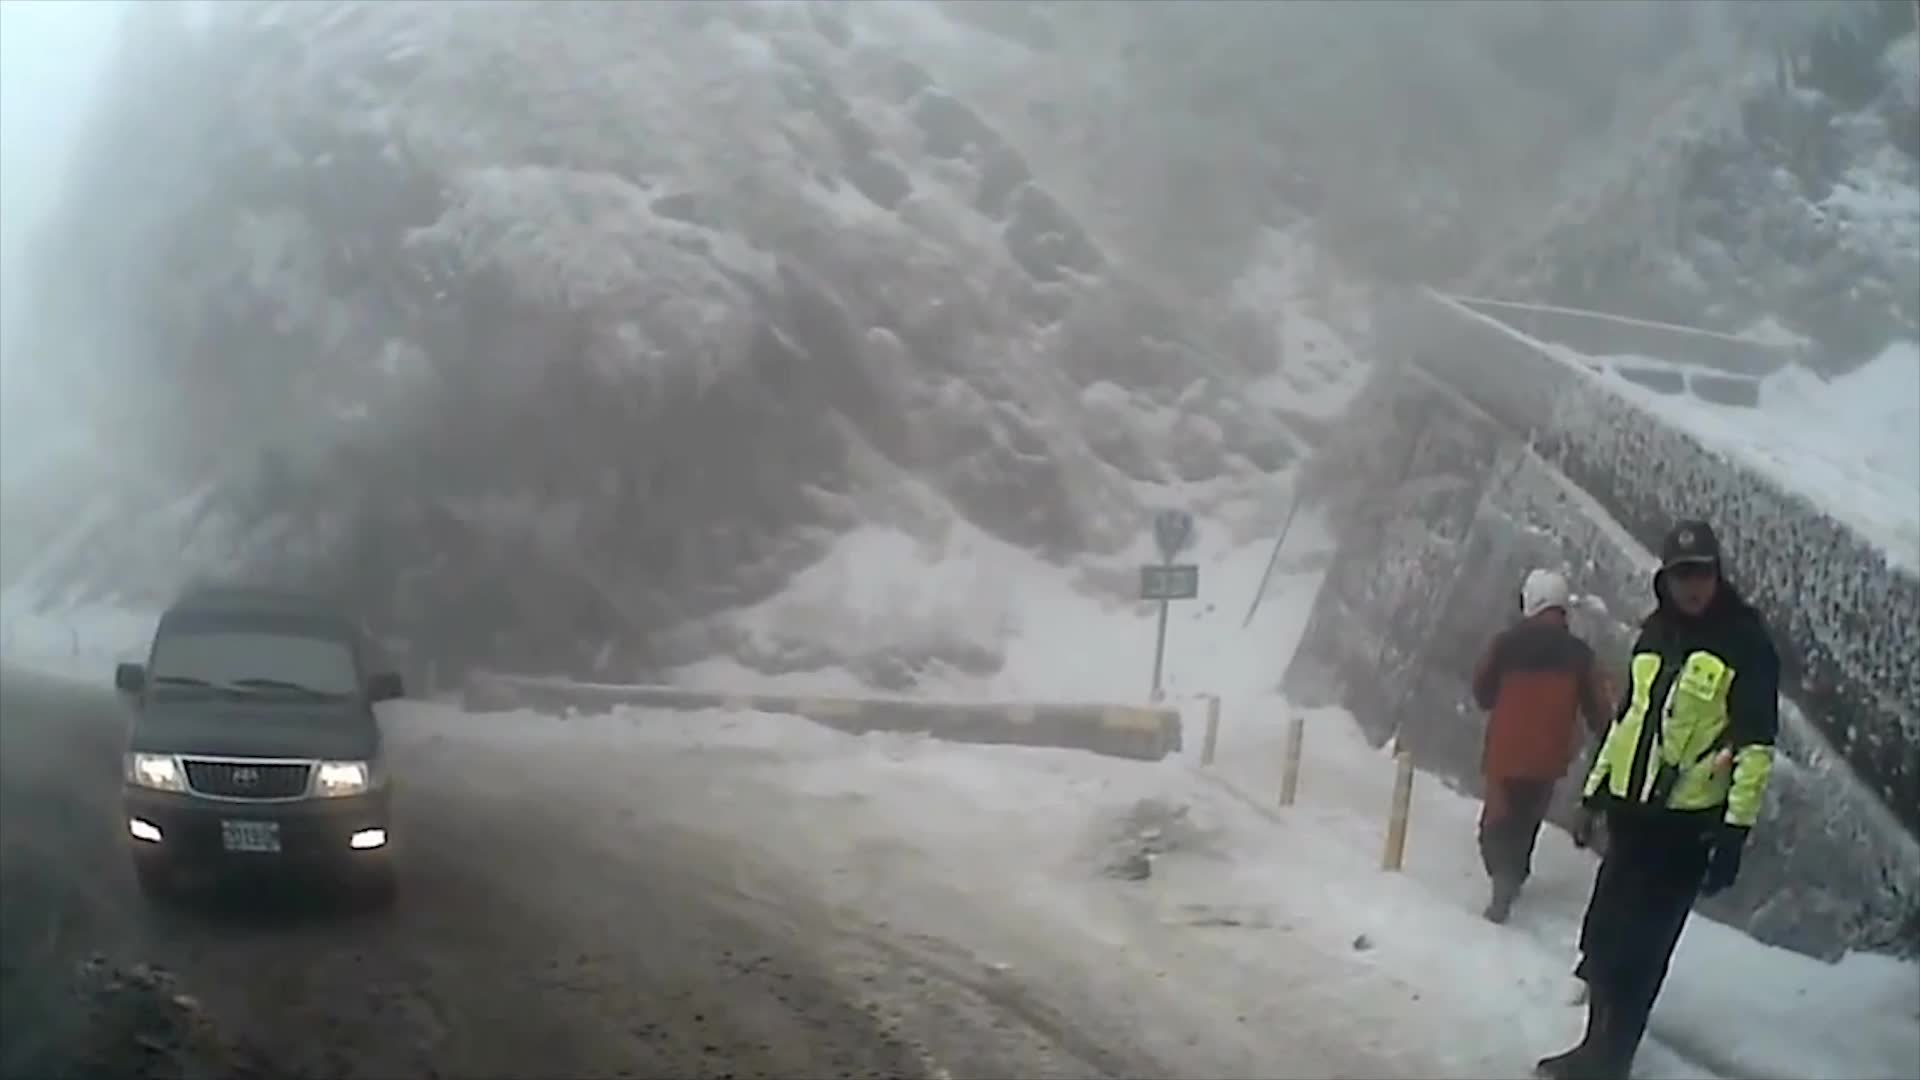pedestrian: (1542, 511, 1786, 1077), (1481, 559, 1618, 917)
vehicle: (115, 585, 406, 909)
